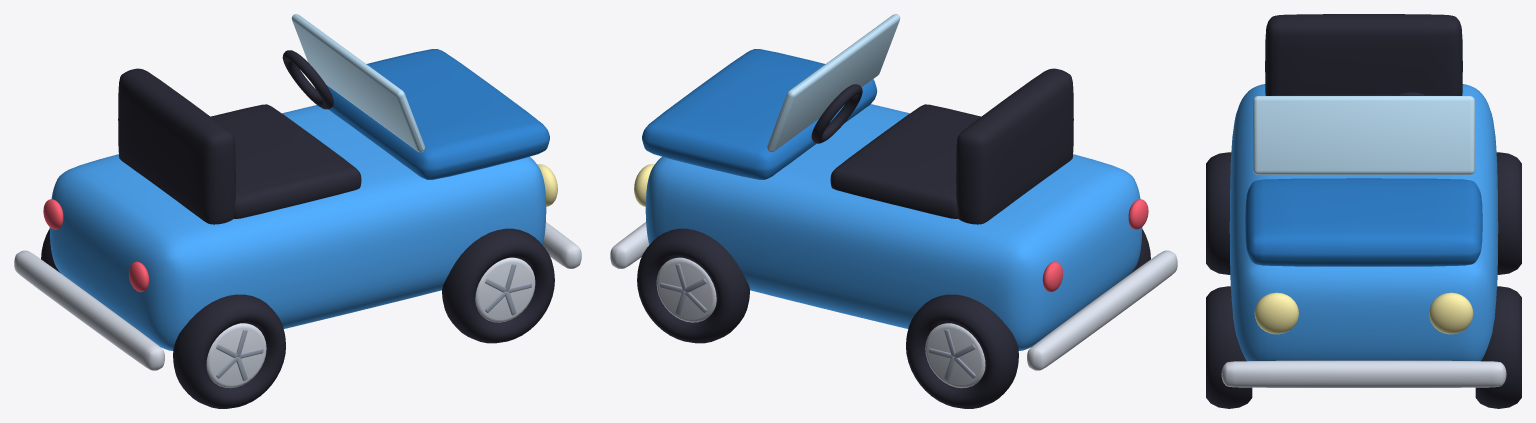
Rendered from car.glb.
3 renders of one model, left to right at view 1: azimuth 30°, elevation 25°; view 2: azimuth 150°, elevation 25°; view 3: azimuth 270°, elevation 25°, orthographic. The views are drawn at different scales.
Visible parts, largest first — view 1: body, hood, seat_back, seat, wheel0_tire, wheel2_tire, windshield, bumper_b, wheel0_rim, wheel2_rim, steer, bumper_f; view 2: body, hood, seat_back, seat, wheel1_tire, wheel3_tire, windshield, bumper_b, wheel1_rim, wheel3_rim, steer, bumper_f; view 3: body, hood, windshield, seat_back, bumper_f, wheel2_tire, wheel3_tire, wheel0_tire, wheel1_tire, lamp0.55, lamp-0.55.
Part boxes in pixels (x1,y1,x2,y2): body: [49, 105, 546, 350]; hood: [315, 49, 549, 179]; seat_back: [118, 68, 235, 224]; seat: [211, 104, 361, 218]; wheel0_tire: [173, 294, 285, 408]; wheel2_tire: [442, 228, 554, 343]; windshield: [291, 14, 424, 152]; bumper_b: [14, 250, 164, 370]; wheel0_rim: [206, 323, 266, 388]; wheel2_rim: [475, 257, 535, 322]; steer: [282, 50, 333, 109]; bumper_f: [543, 222, 581, 268]; body: [645, 104, 1142, 350]; hood: [642, 49, 877, 179]; seat_back: [956, 68, 1073, 224]; seat: [830, 104, 980, 218]; wheel1_tire: [906, 294, 1018, 408]; wheel3_tire: [637, 228, 749, 343]; windshield: [767, 14, 900, 152]; bumper_b: [1027, 250, 1177, 370]; wheel1_rim: [925, 323, 985, 388]; wheel3_rim: [656, 257, 716, 322]; steer: [811, 84, 862, 143]; bumper_f: [610, 222, 648, 268]; body: [1229, 84, 1498, 361]; hood: [1245, 178, 1482, 266]; windshield: [1253, 96, 1474, 174]; seat_back: [1265, 14, 1462, 95]; bumper_f: [1221, 360, 1506, 387]; wheel2_tire: [1206, 286, 1252, 408]; wheel3_tire: [1475, 286, 1521, 408]; wheel0_tire: [1206, 152, 1231, 274]; wheel1_tire: [1496, 152, 1521, 274]; lamp0.55: [1429, 292, 1473, 334]; lamp-0.55: [1254, 292, 1298, 334].
Size of the model in its own units: 3.25 by 1.84 by 1.99.
